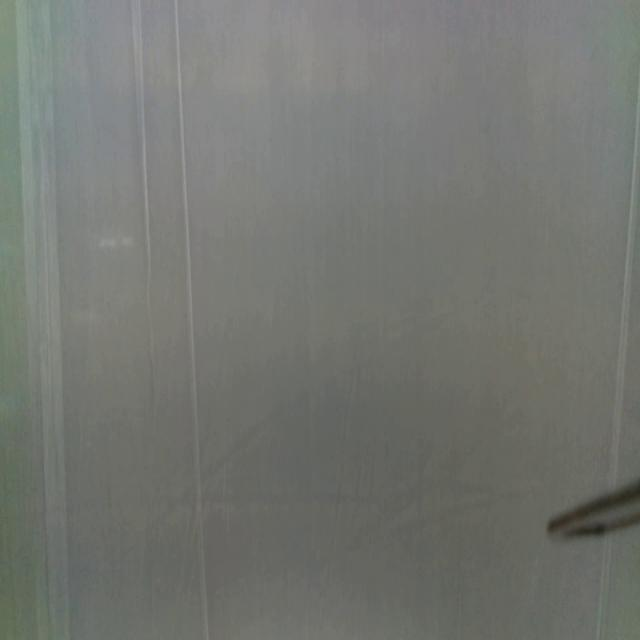crease: (16, 0, 68, 639), (175, 0, 210, 640), (605, 78, 640, 480), (130, 0, 157, 398), (594, 537, 613, 640)
